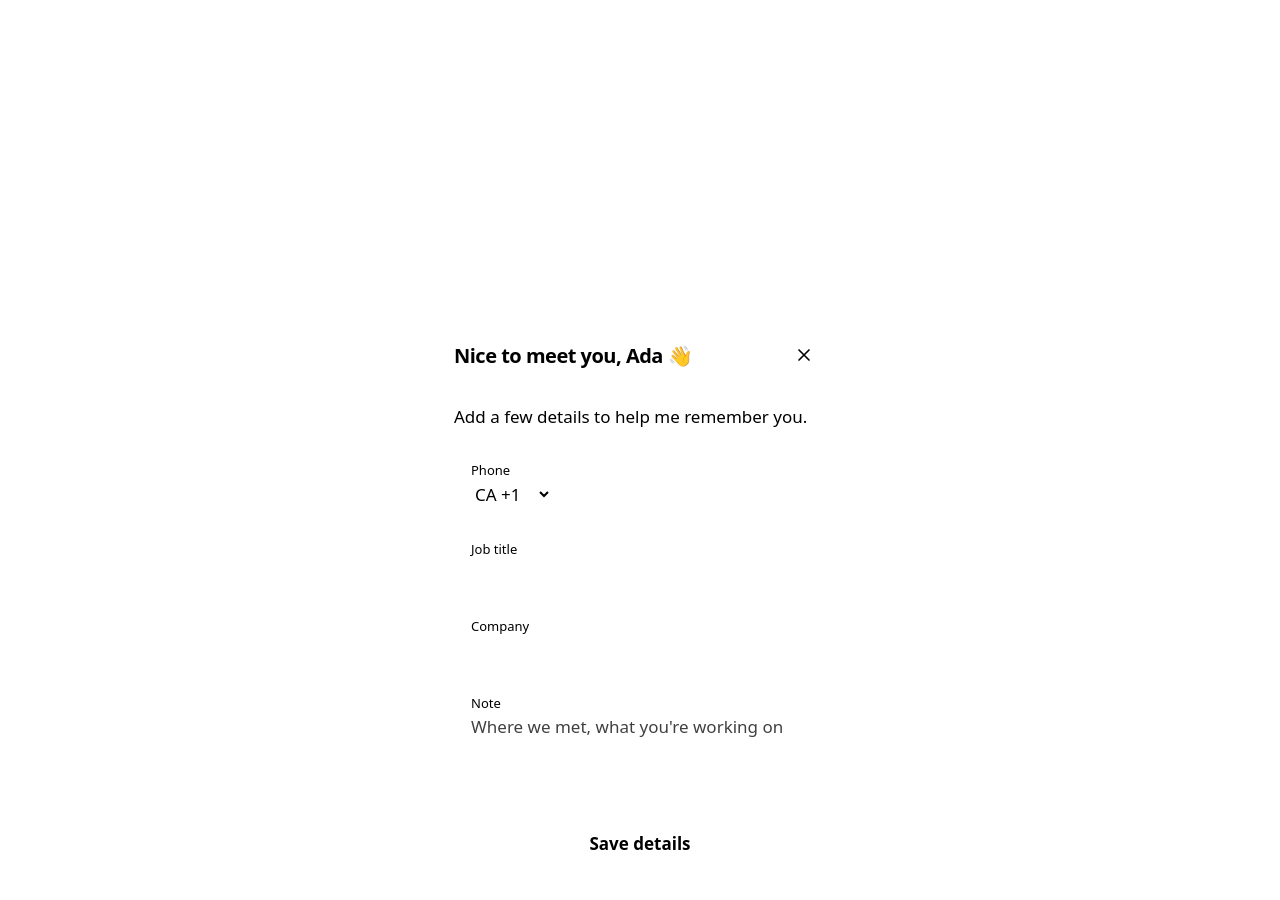
HiExchangeSheet details submit › shows saved copy on success
Click the button "Save details".
click(640, 844)  # box [454,816,826,872]
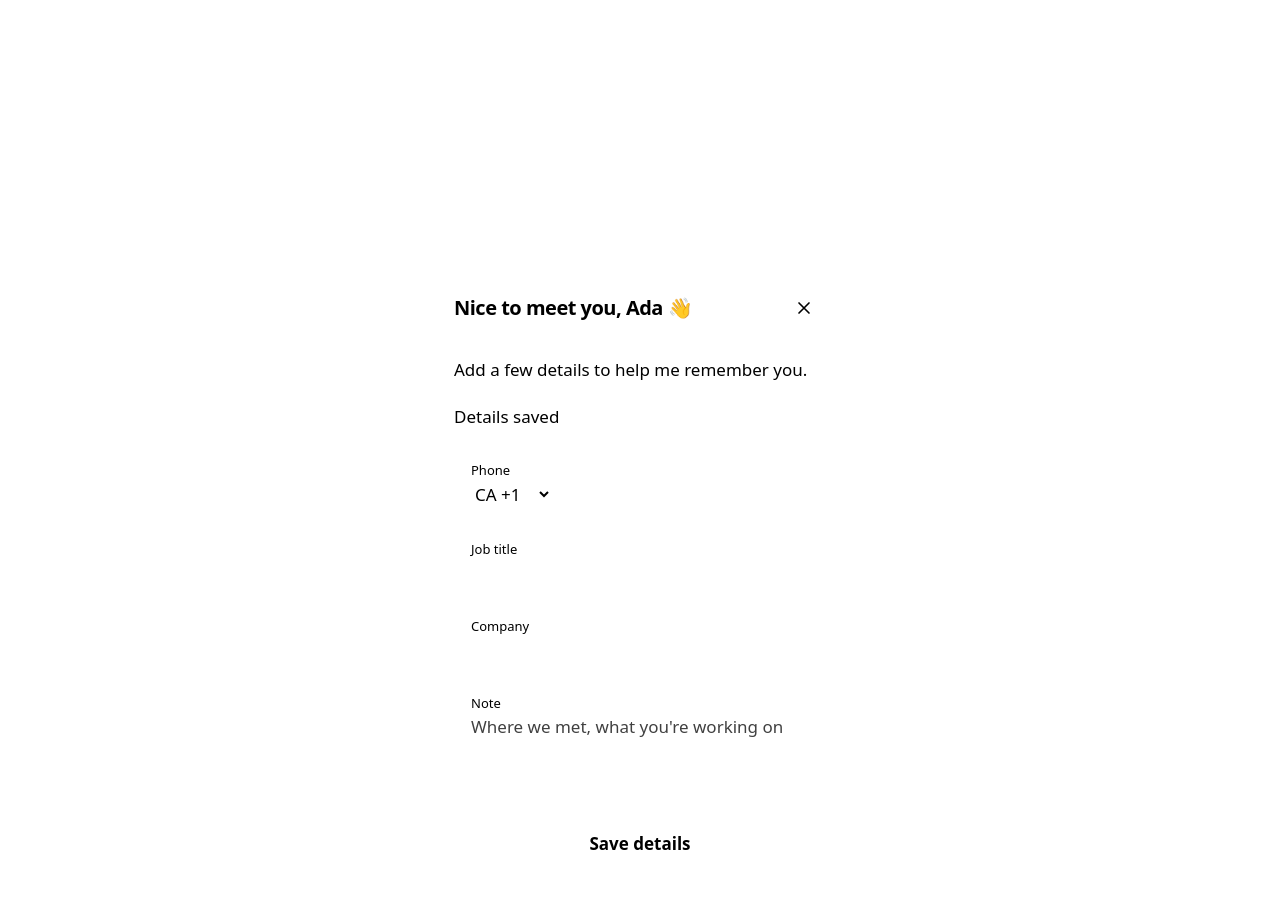
expect the message reads "Details saved": met, box [454,405,559,428]
